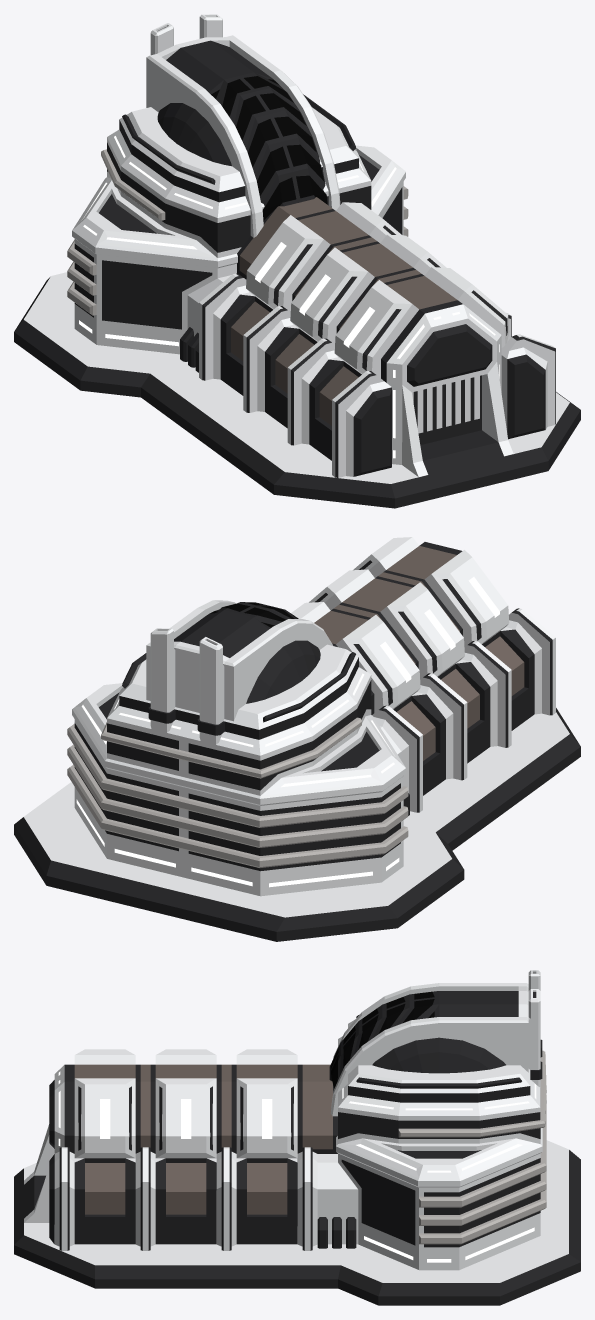
File: CyberneticFactory.fbx
The picture shows the model from 3 angles, top to bottom: view 1: azimuth 30°, elevation 25°; view 2: azimuth 150°, elevation 25°; view 3: azimuth 270°, elevation 25°; orthographic projection. The views are drawn at different scales.
Parts seen in each view (by area): view 1: CyberneticFactory_Foundation_Angar, CyberneticFactory_Foundation_Body, CyberneticFactory_Foundation, CyberneticFactory_Foundation_Head, CyberneticFactory_Foundation_Door, CyberneticFactory_Foundation_Chimney, CyberneticFactory_Foundation_FoundationParts; view 2: CyberneticFactory_Foundation_Body, CyberneticFactory_Foundation_Angar, CyberneticFactory_Foundation, CyberneticFactory_Foundation_Head, CyberneticFactory_Foundation_Chimney; view 3: CyberneticFactory_Foundation_Angar, CyberneticFactory_Foundation_Body, CyberneticFactory_Foundation, CyberneticFactory_Foundation_Head, CyberneticFactory_Foundation_Chimney, CyberneticFactory_Foundation_FoundationParts.
Boxes of the visible parts, x1,y1,x2,y2 form: CyberneticFactory_Foundation_Angar: (187, 197, 555, 477); CyberneticFactory_Foundation_Body: (67, 94, 408, 354); CyberneticFactory_Foundation: (14, 272, 580, 508); CyberneticFactory_Foundation_Head: (146, 35, 340, 237); CyberneticFactory_Foundation_Door: (412, 375, 481, 444); CyberneticFactory_Foundation_Chimney: (150, 14, 222, 55); CyberneticFactory_Foundation_FoundationParts: (180, 327, 198, 372); CyberneticFactory_Foundation_Body: (67, 644, 408, 896); CyberneticFactory_Foundation_Angar: (291, 537, 555, 812); CyberneticFactory_Foundation: (14, 708, 580, 941); CyberneticFactory_Foundation_Head: (146, 600, 332, 721); CyberneticFactory_Foundation_Chimney: (148, 628, 224, 744); CyberneticFactory_Foundation_Angar: (24, 1049, 358, 1250); CyberneticFactory_Foundation_Body: (336, 1014, 546, 1270); CyberneticFactory_Foundation: (14, 1140, 580, 1305); CyberneticFactory_Foundation_Head: (329, 983, 528, 1116); CyberneticFactory_Foundation_Chimney: (528, 970, 542, 1087); CyberneticFactory_Foundation_FoundationParts: (317, 1217, 356, 1248).
Size of the model in its own units: 2000 by 2800 by 1300.
1 material, 1 textured.
